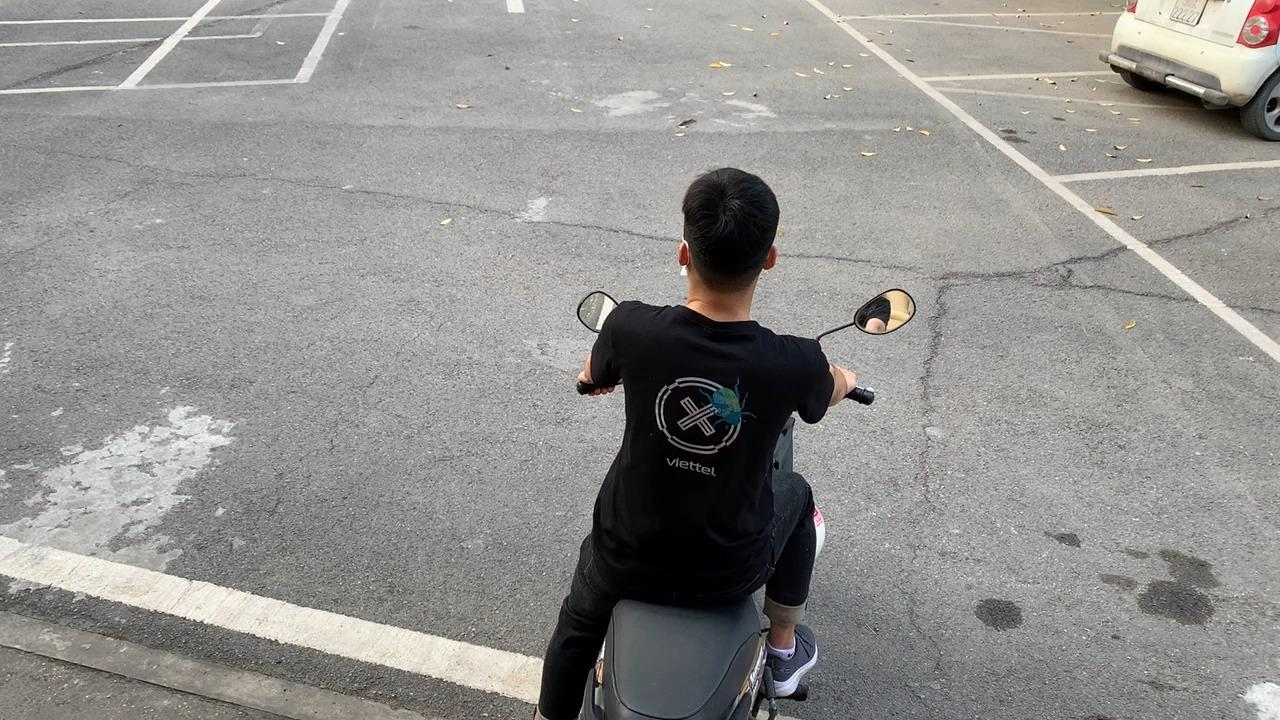motorcyclist: (528, 165, 916, 720)
